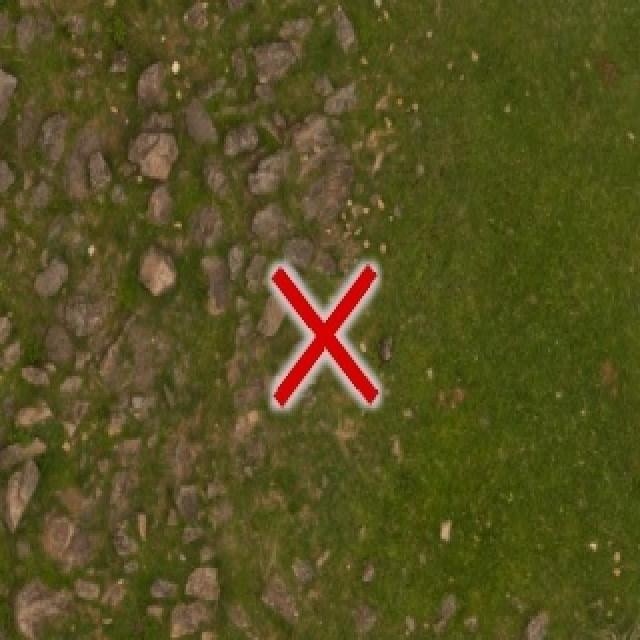x_marker: (271, 265, 377, 404)
